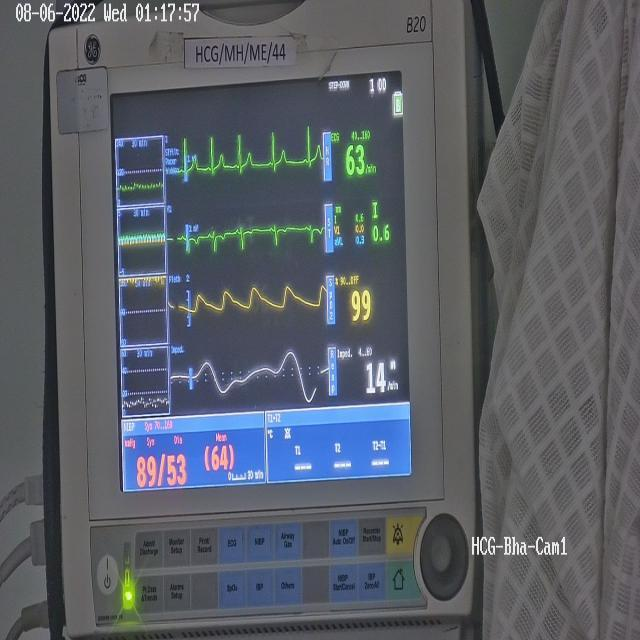Monitor: (42, 6, 496, 640)
